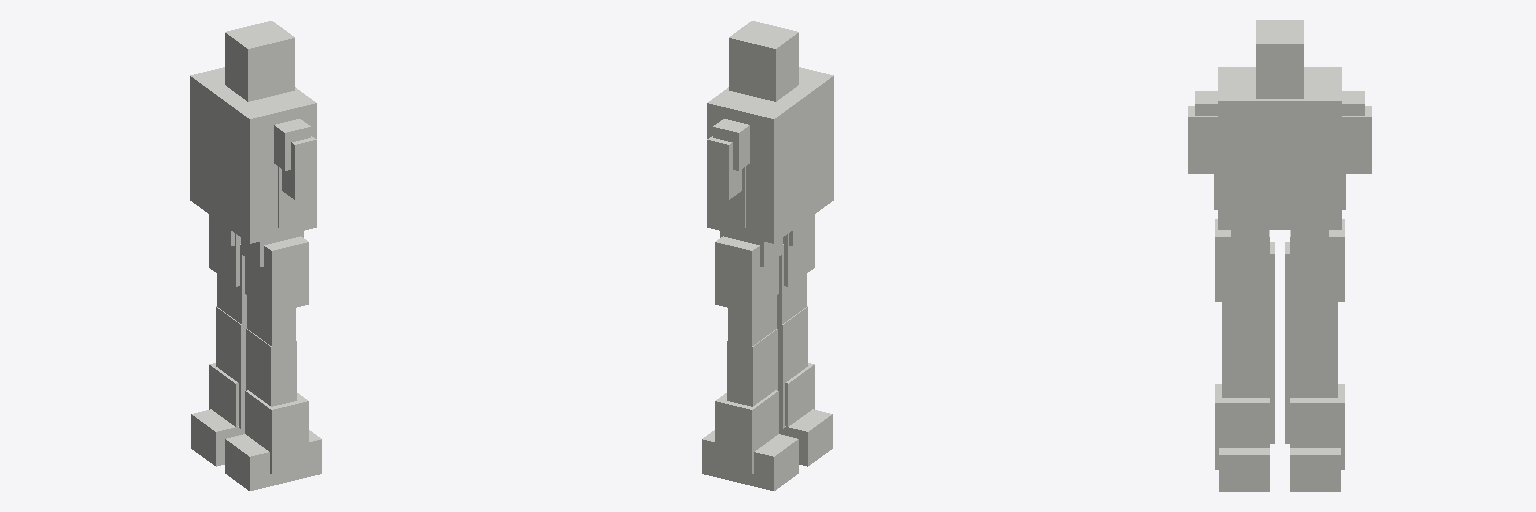
The robot description file, URDF, robot "bazan":
<?xml version="1.0"?>
<!-- Generated by hardware/mechanical/gen_urdf.py from the CAD (leg.py, body.py, shell.py, audit.weigh). Do not edit: run python gen_urdf.py. -->
<robot name="bazan">
  <material name="frame"><color rgba="0.88 0.88 0.86 1"/></material>
  <link name="base_link">
    <inertial><origin xyz="-0.00298 0.00044 0.12897" rpy="0 0 0"/><mass value="0.46503"/><inertia ixx="1.1222e-03" iyy="8.9078e-04" izz="5.6785e-04" ixy="6.4158e-06" ixz="-2.3742e-05" iyz="-3.1114e-06"/></inertial>
    <visual><origin xyz="-0.00450 -0.00000 0.13383"/><geometry><box size="0.08900 0.13760 0.15810"/></geometry><material name="frame"/></visual>
    <collision><origin xyz="-0.00450 -0.00000 0.13383"/><geometry><box size="0.08900 0.13760 0.15810"/></geometry></collision>
  </link>
  <link name="l_hip_yaw_link">
    <inertial><origin xyz="0.00520 0.00000 0.01978" rpy="0 0 0"/><mass value="0.01875"/><inertia ixx="3.9926e-06" iyy="9.9564e-06" izz="9.2561e-06" ixy="1.4542e-24" ixz="8.6902e-07" iyz="1.2755e-21"/></inertial>
    <visual><origin xyz="0.00190 0.00000 0.00779"/><geometry><box size="0.05850 0.04200 0.04458"/></geometry><material name="frame"/></visual>
    <collision><origin xyz="0.00190 0.00000 0.00779"/><geometry><box size="0.05850 0.04200 0.04458"/></geometry></collision>
  </link>
  <link name="r_hip_yaw_link">
    <inertial><origin xyz="0.00520 0.00000 0.01978" rpy="0 0 0"/><mass value="0.01875"/><inertia ixx="3.9926e-06" iyy="9.9564e-06" izz="9.2561e-06" ixy="-1.4542e-24" ixz="8.6902e-07" iyz="-1.2755e-21"/></inertial>
    <visual><origin xyz="0.00190 0.00000 0.00779"/><geometry><box size="0.05850 0.04200 0.04458"/></geometry><material name="frame"/></visual>
    <collision><origin xyz="0.00190 0.00000 0.00779"/><geometry><box size="0.05850 0.04200 0.04458"/></geometry></collision>
  </link>
  <link name="l_shoulder_pitch_link">
    <inertial><origin xyz="-0.00334 -0.00245 -0.01649" rpy="0 0 0"/><mass value="0.01938"/><inertia ixx="2.8301e-06" iyy="3.0573e-06" izz="2.1081e-06" ixy="7.2242e-08" ixz="-1.4631e-07" iyz="6.6117e-07"/></inertial>
    <visual><origin xyz="0.00040 -0.00630 -0.01230"/><geometry><box size="0.03480 0.02920 0.04860"/></geometry><material name="frame"/></visual>
    <collision><origin xyz="0.00040 -0.00630 -0.01230"/><geometry><box size="0.03480 0.02920 0.04860"/></geometry></collision>
  </link>
  <link name="r_shoulder_pitch_link">
    <inertial><origin xyz="-0.00334 0.00245 -0.01649" rpy="0 0 0"/><mass value="0.01938"/><inertia ixx="2.8301e-06" iyy="3.0573e-06" izz="2.1081e-06" ixy="-7.2242e-08" ixz="-1.4631e-07" iyz="-6.6117e-07"/></inertial>
    <visual><origin xyz="0.00040 0.00630 -0.01230"/><geometry><box size="0.03480 0.02920 0.04860"/></geometry><material name="frame"/></visual>
    <collision><origin xyz="0.00040 0.00630 -0.01230"/><geometry><box size="0.03480 0.02920 0.04860"/></geometry></collision>
  </link>
  <link name="neck_yaw_link">
    <inertial><origin xyz="-0.00455 -0.00170 -0.00115" rpy="0 0 0"/><mass value="0.01811"/><inertia ixx="1.6320e-06" iyy="1.7106e-06" izz="2.3306e-06" ixy="-6.2438e-08" ixz="9.5055e-08" iyz="3.5655e-08"/></inertial>
    <visual><origin xyz="-0.00530 0.00145 -0.00330"/><geometry><box size="0.03460 0.03610 0.02320"/></geometry><material name="frame"/></visual>
    <collision><origin xyz="-0.00530 0.00145 -0.00330"/><geometry><box size="0.03460 0.03610 0.02320"/></geometry></collision>
  </link>
  <link name="l_hip_roll_link">
    <inertial><origin xyz="0.00179 0.00668 -0.01917" rpy="0 0 0"/><mass value="0.16588"/><inertia ixx="1.0831e-04" iyy="9.4696e-05" izz="4.2333e-05" ixy="-1.0505e-06" ixz="-5.7667e-06" iyz="-9.8086e-06"/></inertial>
    <visual><origin xyz="0.00315 0.00860 -0.02748"/><geometry><box size="0.04940 0.06030 0.07935"/></geometry><material name="frame"/></visual>
    <collision><origin xyz="0.00315 0.00860 -0.02748"/><geometry><box size="0.04940 0.06030 0.07935"/></geometry></collision>
  </link>
  <link name="l_hip_pitch_link">
    <inertial><origin xyz="-0.00243 0.00130 -0.08007" rpy="0 0 0"/><mass value="0.11384"/><inertia ixx="1.0293e-04" iyy="8.5009e-05" izz="3.2000e-05" ixy="-5.2272e-07" ixz="3.9714e-06" iyz="5.3900e-06"/></inertial>
    <visual><origin xyz="-0.00090 0.00190 -0.05212"/><geometry><box size="0.03080 0.05850 0.13325"/></geometry><material name="frame"/></visual>
    <collision><origin xyz="-0.00090 0.00190 -0.05212"/><geometry><box size="0.03080 0.05850 0.13325"/></geometry></collision>
  </link>
  <link name="l_knee_link">
    <inertial><origin xyz="0.00605 0.00562 -0.04964" rpy="0 0 0"/><mass value="0.03129"/><inertia ixx="5.0262e-05" iyy="3.4796e-05" izz="2.0739e-05" ixy="1.2281e-06" ixz="-2.0803e-06" iyz="9.2353e-07"/></inertial>
    <visual><origin xyz="-0.00060 0.00190 -0.05150"/><geometry><box size="0.03380 0.05850 0.13200"/></geometry><material name="frame"/></visual>
    <collision><origin xyz="-0.00060 0.00190 -0.05150"/><geometry><box size="0.03380 0.05850 0.13200"/></geometry></collision>
  </link>
  <link name="l_ankle_pitch_link">
    <inertial><origin xyz="0.00174 0.00667 -0.01047" rpy="0 0 0"/><mass value="0.16812"/><inertia ixx="1.1633e-04" iyy="1.0247e-04" izz="4.2794e-05" ixy="-1.0816e-06" ixz="6.0658e-06" iyz="1.0404e-05"/></inertial>
    <visual><origin xyz="0.00315 0.00860 -0.00207"/><geometry><box size="0.04940 0.06030 0.08165"/></geometry><material name="frame"/></visual>
    <collision><origin xyz="0.00315 0.00860 -0.00207"/><geometry><box size="0.04940 0.06030 0.08165"/></geometry></collision>
  </link>
  <link name="l_ankle_roll_link">
    <inertial><origin xyz="0.00000 0.00504 -0.02355" rpy="0 0 0"/><mass value="0.04572"/><inertia ixx="1.3898e-05" iyy="3.7561e-05" izz="4.5445e-05" ixy="3.7084e-07" ixz="-1.3565e-06" iyz="6.7047e-07"/></inertial>
    <visual><origin xyz="-0.00161 0.00600 -0.00749"/><geometry><box size="0.09600 0.05640 0.04398"/></geometry><material name="frame"/></visual>
    <collision><origin xyz="-0.00161 0.00600 -0.00749"/><geometry><box size="0.09600 0.05640 0.04398"/></geometry></collision>
  </link>
  <link name="r_hip_roll_link">
    <inertial><origin xyz="0.00179 -0.00668 -0.01917" rpy="0 0 0"/><mass value="0.16588"/><inertia ixx="1.0831e-04" iyy="9.4696e-05" izz="4.2333e-05" ixy="1.0505e-06" ixz="-5.7667e-06" iyz="9.8086e-06"/></inertial>
    <visual><origin xyz="0.00315 -0.00860 -0.02748"/><geometry><box size="0.04940 0.06030 0.07935"/></geometry><material name="frame"/></visual>
    <collision><origin xyz="0.00315 -0.00860 -0.02748"/><geometry><box size="0.04940 0.06030 0.07935"/></geometry></collision>
  </link>
  <link name="r_hip_pitch_link">
    <inertial><origin xyz="-0.00243 -0.00130 -0.08007" rpy="0 0 0"/><mass value="0.11384"/><inertia ixx="1.0293e-04" iyy="8.5009e-05" izz="3.2000e-05" ixy="5.2272e-07" ixz="3.9714e-06" iyz="-5.3900e-06"/></inertial>
    <visual><origin xyz="-0.00090 -0.00190 -0.05212"/><geometry><box size="0.03080 0.05850 0.13325"/></geometry><material name="frame"/></visual>
    <collision><origin xyz="-0.00090 -0.00190 -0.05212"/><geometry><box size="0.03080 0.05850 0.13325"/></geometry></collision>
  </link>
  <link name="r_knee_link">
    <inertial><origin xyz="0.00605 -0.00562 -0.04964" rpy="0 0 0"/><mass value="0.03129"/><inertia ixx="5.0262e-05" iyy="3.4796e-05" izz="2.0739e-05" ixy="-1.2281e-06" ixz="-2.0803e-06" iyz="-9.2353e-07"/></inertial>
    <visual><origin xyz="-0.00060 -0.00190 -0.05150"/><geometry><box size="0.03380 0.05850 0.13200"/></geometry><material name="frame"/></visual>
    <collision><origin xyz="-0.00060 -0.00190 -0.05150"/><geometry><box size="0.03380 0.05850 0.13200"/></geometry></collision>
  </link>
  <link name="r_ankle_pitch_link">
    <inertial><origin xyz="0.00174 -0.00667 -0.01047" rpy="0 0 0"/><mass value="0.16812"/><inertia ixx="1.1633e-04" iyy="1.0247e-04" izz="4.2794e-05" ixy="1.0816e-06" ixz="6.0658e-06" iyz="-1.0404e-05"/></inertial>
    <visual><origin xyz="0.00315 -0.00860 -0.00207"/><geometry><box size="0.04940 0.06030 0.08165"/></geometry><material name="frame"/></visual>
    <collision><origin xyz="0.00315 -0.00860 -0.00207"/><geometry><box size="0.04940 0.06030 0.08165"/></geometry></collision>
  </link>
  <link name="r_ankle_roll_link">
    <inertial><origin xyz="0.00000 -0.00504 -0.02355" rpy="0 0 0"/><mass value="0.04572"/><inertia ixx="1.3898e-05" iyy="3.7561e-05" izz="4.5445e-05" ixy="-3.7084e-07" ixz="-1.3565e-06" iyz="-6.7047e-07"/></inertial>
    <visual><origin xyz="-0.00161 -0.00600 -0.00749"/><geometry><box size="0.09600 0.05640 0.04398"/></geometry><material name="frame"/></visual>
    <collision><origin xyz="-0.00161 -0.00600 -0.00749"/><geometry><box size="0.09600 0.05640 0.04398"/></geometry></collision>
  </link>
  <link name="l_shoulder_roll_link">
    <inertial><origin xyz="0.00518 0.00243 -0.03630" rpy="0 0 0"/><mass value="0.02235"/><inertia ixx="5.2988e-06" iyy="5.7806e-06" izz="2.7167e-06" ixy="-7.4163e-09" ixz="-1.2277e-06" iyz="1.6733e-07"/></inertial>
    <visual><origin xyz="0.00620 -0.00120 -0.02305"/><geometry><box size="0.02900 0.03480 0.07010"/></geometry><material name="frame"/></visual>
    <collision><origin xyz="0.00620 -0.00120 -0.02305"/><geometry><box size="0.02900 0.03480 0.07010"/></geometry></collision>
  </link>
  <link name="l_elbow_link">
    <inertial><origin xyz="0.00013 0.00000 -0.03768" rpy="0 0 0"/><mass value="0.00773"/><inertia ixx="4.0975e-06" iyy="4.2563e-06" izz="2.4984e-07" ixy="-2.5833e-10" ixz="1.2855e-08" iyz="6.1938e-08"/></inertial>
    <visual><origin xyz="0.00000 0.00025 -0.02900"/><geometry><box size="0.02400 0.01000 0.08200"/></geometry><material name="frame"/></visual>
    <collision><origin xyz="0.00000 0.00025 -0.02900"/><geometry><box size="0.02400 0.01000 0.08200"/></geometry></collision>
  </link>
  <link name="r_shoulder_roll_link">
    <inertial><origin xyz="0.00518 -0.00243 -0.03630" rpy="0 0 0"/><mass value="0.02235"/><inertia ixx="5.2988e-06" iyy="5.7806e-06" izz="2.7167e-06" ixy="7.4163e-09" ixz="-1.2277e-06" iyz="-1.6733e-07"/></inertial>
    <visual><origin xyz="0.00620 0.00120 -0.02305"/><geometry><box size="0.02900 0.03480 0.07010"/></geometry><material name="frame"/></visual>
    <collision><origin xyz="0.00620 0.00120 -0.02305"/><geometry><box size="0.02900 0.03480 0.07010"/></geometry></collision>
  </link>
  <link name="r_elbow_link">
    <inertial><origin xyz="0.00013 0.00000 -0.03768" rpy="0 0 0"/><mass value="0.00773"/><inertia ixx="4.0975e-06" iyy="4.2563e-06" izz="2.4984e-07" ixy="2.5833e-10" ixz="1.2855e-08" iyz="-6.1938e-08"/></inertial>
    <visual><origin xyz="0.00000 -0.00025 -0.02900"/><geometry><box size="0.02400 0.01000 0.08200"/></geometry><material name="frame"/></visual>
    <collision><origin xyz="0.00000 -0.00025 -0.02900"/><geometry><box size="0.02400 0.01000 0.08200"/></geometry></collision>
  </link>
  <link name="head_pitch_link">
    <inertial><origin xyz="0.01627 0.00000 0.01725" rpy="0 0 0"/><mass value="0.03087"/><inertia ixx="1.2333e-05" iyy="1.4134e-05" izz="1.5405e-05" ixy="1.7351e-07" ixz="-3.9918e-07" iyz="3.2173e-07"/></inertial>
    <visual><origin xyz="0.00739 -0.00042 0.02192"/><geometry><box size="0.06279 0.05400 0.06784"/></geometry><material name="frame"/></visual>
    <collision><origin xyz="0.00739 -0.00042 0.02192"/><geometry><box size="0.06279 0.05400 0.06784"/></geometry></collision>
  </link>
  <joint name="l_hip_yaw" type="revolute"><parent link="base_link"/><child link="l_hip_yaw_link"/><origin xyz="0.00000 0.03295 0.02840"/><axis xyz="0 0 1"/><limit lower="-0.7854" upper="0.7854" effort="0.216" velocity="13.09"/><dynamics damping="0.02" friction="0"/></joint>
  <joint name="r_hip_yaw" type="revolute"><parent link="base_link"/><child link="r_hip_yaw_link"/><origin xyz="0.00000 -0.03295 0.02840"/><axis xyz="0 0 1"/><limit lower="-0.7854" upper="0.7854" effort="0.216" velocity="13.09"/><dynamics damping="0.02" friction="0"/></joint>
  <joint name="l_shoulder_pitch" type="revolute"><parent link="base_link"/><child link="l_shoulder_pitch_link"/><origin xyz="0.00000 0.08600 0.18638"/><axis xyz="0 1 0"/><limit lower="-3.1416" upper="1.0472" effort="0.216" velocity="13.09"/><dynamics damping="0.02" friction="0"/></joint>
  <joint name="r_shoulder_pitch" type="revolute"><parent link="base_link"/><child link="r_shoulder_pitch_link"/><origin xyz="0.00000 -0.08600 0.18638"/><axis xyz="0 1 0"/><limit lower="-3.1416" upper="1.0472" effort="0.216" velocity="13.09"/><dynamics damping="0.02" friction="0"/></joint>
  <joint name="neck_yaw" type="revolute"><parent link="base_link"/><child link="neck_yaw_link"/><origin xyz="-0.00300 0.00000 0.22408"/><axis xyz="0 0 1"/><limit lower="-1.5708" upper="1.5708" effort="0.177" velocity="10.47"/><dynamics damping="0.02" friction="0"/></joint>
  <joint name="l_hip_roll" type="revolute"><parent link="l_hip_yaw_link"/><child link="l_hip_roll_link"/><origin xyz="0.00000 0.00000 0.00000"/><axis xyz="1 0 0"/><limit lower="-0.3491" upper="0.3491" effort="1.961" velocity="6.98"/><dynamics damping="0.02" friction="0"/></joint>
  <joint name="l_hip_pitch" type="revolute"><parent link="l_hip_roll_link"/><child link="l_hip_pitch_link"/><origin xyz="0.00000 0.00000 -0.02840"/><axis xyz="0 1 0"/><limit lower="-1.3963" upper="0.6981" effort="1.961" velocity="6.98"/><dynamics damping="0.02" friction="0"/></joint>
  <joint name="l_knee" type="revolute"><parent link="l_hip_pitch_link"/><child link="l_knee_link"/><origin xyz="0.00000 0.00000 -0.10000"/><axis xyz="0 1 0"/><limit lower="0.0000" upper="2.0944" effort="2.157" velocity="7.48"/><dynamics damping="0.02" friction="0"/></joint>
  <joint name="l_ankle_pitch" type="revolute"><parent link="l_knee_link"/><child link="l_ankle_pitch_link"/><origin xyz="0.00000 0.00000 -0.10000"/><axis xyz="0 1 0"/><limit lower="-0.7854" upper="0.7854" effort="1.961" velocity="6.98"/><dynamics damping="0.02" friction="0"/></joint>
  <joint name="l_ankle_roll" type="revolute"><parent link="l_ankle_pitch_link"/><child link="l_ankle_roll_link"/><origin xyz="0.00161 0.00000 -0.03070"/><axis xyz="1 0 0"/><limit lower="-0.3491" upper="0.3491" effort="1.961" velocity="6.98"/><dynamics damping="0.02" friction="0"/></joint>
  <joint name="r_hip_roll" type="revolute"><parent link="r_hip_yaw_link"/><child link="r_hip_roll_link"/><origin xyz="0.00000 0.00000 0.00000"/><axis xyz="1 0 0"/><limit lower="-0.3491" upper="0.3491" effort="1.961" velocity="6.98"/><dynamics damping="0.02" friction="0"/></joint>
  <joint name="r_hip_pitch" type="revolute"><parent link="r_hip_roll_link"/><child link="r_hip_pitch_link"/><origin xyz="0.00000 0.00000 -0.02840"/><axis xyz="0 1 0"/><limit lower="-1.3963" upper="0.6981" effort="1.961" velocity="6.98"/><dynamics damping="0.02" friction="0"/></joint>
  <joint name="r_knee" type="revolute"><parent link="r_hip_pitch_link"/><child link="r_knee_link"/><origin xyz="0.00000 0.00000 -0.10000"/><axis xyz="0 1 0"/><limit lower="0.0000" upper="2.0944" effort="2.157" velocity="7.48"/><dynamics damping="0.02" friction="0"/></joint>
  <joint name="r_ankle_pitch" type="revolute"><parent link="r_knee_link"/><child link="r_ankle_pitch_link"/><origin xyz="0.00000 0.00000 -0.10000"/><axis xyz="0 1 0"/><limit lower="-0.7854" upper="0.7854" effort="1.961" velocity="6.98"/><dynamics damping="0.02" friction="0"/></joint>
  <joint name="r_ankle_roll" type="revolute"><parent link="r_ankle_pitch_link"/><child link="r_ankle_roll_link"/><origin xyz="0.00161 0.00000 -0.03070"/><axis xyz="1 0 0"/><limit lower="-0.3491" upper="0.3491" effort="1.961" velocity="6.98"/><dynamics damping="0.02" friction="0"/></joint>
  <joint name="l_shoulder_roll" type="revolute"><parent link="l_shoulder_pitch_link"/><child link="l_shoulder_roll_link"/><origin xyz="0.00000 0.00000 -0.01400"/><axis xyz="1 0 0"/><limit lower="0.0000" upper="2.7925" effort="0.177" velocity="10.47"/><dynamics damping="0.02" friction="0"/></joint>
  <joint name="l_elbow" type="revolute"><parent link="l_shoulder_roll_link"/><child link="l_elbow_link"/><origin xyz="0.00000 -0.01825 -0.03550"/><axis xyz="0 1 0"/><limit lower="-2.2689" upper="0.0000" effort="0.177" velocity="10.47"/><dynamics damping="0.02" friction="0"/></joint>
  <joint name="r_shoulder_roll" type="revolute"><parent link="r_shoulder_pitch_link"/><child link="r_shoulder_roll_link"/><origin xyz="0.00000 0.00000 -0.01400"/><axis xyz="1 0 0"/><limit lower="-2.7925" upper="0.0000" effort="0.177" velocity="10.47"/><dynamics damping="0.02" friction="0"/></joint>
  <joint name="r_elbow" type="revolute"><parent link="r_shoulder_roll_link"/><child link="r_elbow_link"/><origin xyz="0.00000 0.01825 -0.03550"/><axis xyz="0 1 0"/><limit lower="-2.2689" upper="0.0000" effort="0.177" velocity="10.47"/><dynamics damping="0.02" friction="0"/></joint>
  <joint name="head_pitch" type="revolute"><parent link="neck_yaw_link"/><child link="head_pitch_link"/><origin xyz="0.00000 0.00042 0.00000"/><axis xyz="0 1 0"/><limit lower="-0.5236" upper="0.5585" effort="0.177" velocity="10.47"/><dynamics damping="0.02" friction="0"/></joint>
  <link name="l_sole"/><joint name="l_sole_joint" type="fixed"><parent link="l_ankle_roll_link"/><child link="l_sole"/><origin xyz="0 0 -0.02948" rpy="0 0 0"/></joint>
  <link name="r_sole"/><joint name="r_sole_joint" type="fixed"><parent link="r_ankle_roll_link"/><child link="r_sole"/><origin xyz="0 0 -0.02948" rpy="0 0 0"/></joint>
  <link name="imu_link"/><joint name="imu_link_joint" type="fixed"><parent link="base_link"/><child link="imu_link"/><origin xyz="0.01300 0.00000 0.14848" rpy="0 0 0"/></joint>
  <link name="camera_link"/><joint name="camera_link_joint" type="fixed"><parent link="head_pitch_link"/><child link="camera_link"/><origin xyz="0.03411 -0.00042 0.04541" rpy="0.00000 0.26180 0.00000"/></joint>
  <link name="tof_link"/><joint name="tof_link_joint" type="fixed"><parent link="head_pitch_link"/><child link="tof_link"/><origin xyz="0.02971 -0.00042 0.02899" rpy="0.00000 0.26180 0.00000"/></joint>
  <link name="camera_optical_frame"/><joint name="camera_optical_joint" type="fixed"><parent link="camera_link"/><child link="camera_optical_frame"/><origin xyz="0 0 0" rpy="-1.57080 0.00000 -1.57080"/></joint>
</robot>

--- Render facts (derived) ---
Views: 3 orthographic renders of the robot side by side, from view 1: azimuth 30°, elevation 25°; view 2: azimuth 150°, elevation 25°; view 3: azimuth 270°, elevation 25°.
Robot: bazan — 27 links, 26 joints (20 revolute, 6 fixed); root link base_link; default pose: every joint at zero.
Visible links, largest first — view 1: base_link, head_pitch_link, r_ankle_pitch_link, r_hip_roll_link, r_knee_link, r_ankle_roll_link, l_knee_link, l_ankle_roll_link, r_shoulder_roll_link, r_hip_pitch_link, l_ankle_pitch_link, l_hip_roll_link (+4 smaller); view 2: base_link, head_pitch_link, l_ankle_pitch_link, l_hip_roll_link, l_ankle_roll_link, l_knee_link, l_hip_pitch_link, r_knee_link, r_ankle_roll_link, l_shoulder_roll_link, r_ankle_pitch_link, r_hip_roll_link (+4 smaller); view 3: base_link, head_pitch_link, l_knee_link, r_knee_link, l_ankle_pitch_link, r_ankle_pitch_link, l_hip_roll_link, r_hip_roll_link, l_ankle_roll_link, r_ankle_roll_link, l_hip_pitch_link, r_hip_pitch_link (+6 smaller).
Link boxes in pixels (x1,y1,x2,y2): base_link: [190, 67, 316, 243]; head_pitch_link: [225, 21, 294, 101]; r_ankle_pitch_link: [245, 390, 308, 473]; r_hip_roll_link: [245, 236, 308, 312]; r_knee_link: [246, 329, 296, 406]; r_ankle_roll_link: [225, 430, 321, 490]; l_knee_link: [216, 306, 245, 428]; l_ankle_roll_link: [191, 409, 244, 466]; r_shoulder_roll_link: [282, 136, 316, 199]; r_hip_pitch_link: [247, 296, 295, 346]; l_ankle_pitch_link: [209, 363, 238, 426]; l_hip_roll_link: [209, 215, 240, 286]; base_link: [707, 67, 833, 243]; head_pitch_link: [729, 21, 798, 101]; l_ankle_pitch_link: [715, 390, 778, 473]; l_hip_roll_link: [715, 236, 778, 312]; l_ankle_roll_link: [702, 430, 798, 490]; l_knee_link: [727, 329, 777, 406]; l_hip_pitch_link: [728, 296, 776, 372]; r_knee_link: [777, 306, 807, 428]; r_ankle_roll_link: [779, 409, 832, 466]; l_shoulder_roll_link: [707, 136, 741, 199]; r_ankle_pitch_link: [785, 363, 814, 426]; r_hip_roll_link: [783, 215, 814, 286]; base_link: [1218, 67, 1341, 229]; head_pitch_link: [1256, 20, 1303, 98]; l_knee_link: [1285, 336, 1337, 443]; r_knee_link: [1222, 336, 1274, 443]; l_ankle_pitch_link: [1290, 384, 1344, 469]; r_ankle_pitch_link: [1215, 384, 1269, 469]; l_hip_roll_link: [1290, 219, 1344, 301]; r_hip_roll_link: [1215, 219, 1269, 301]; l_ankle_roll_link: [1290, 448, 1340, 491]; r_ankle_roll_link: [1219, 448, 1269, 491]; l_hip_pitch_link: [1285, 242, 1337, 335]; r_hip_pitch_link: [1222, 242, 1274, 335].
Bounding box of the posed robot: 0.097 × 0.2044 × 0.5401 m (x, y, z).
Geometry: primitives only (box / cylinder / sphere), no mesh files.
